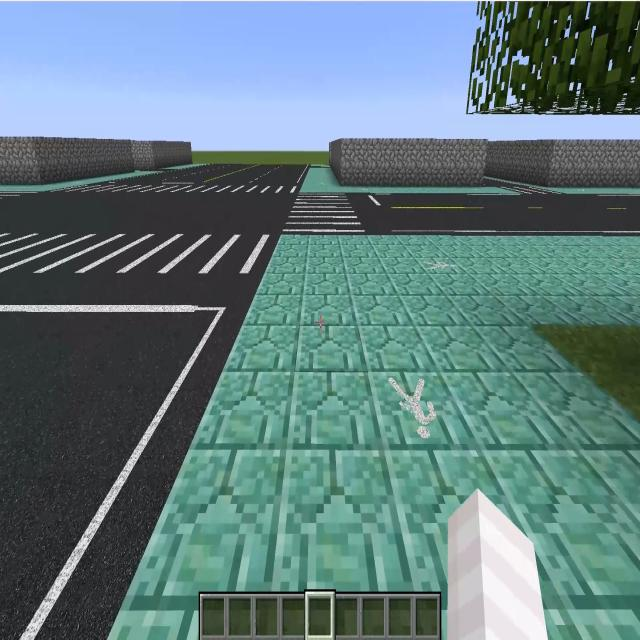crosswalk: (0, 224, 279, 284), (74, 180, 302, 196), (284, 192, 367, 232)
road: (1, 275, 252, 634), (352, 193, 639, 230), (1, 191, 288, 220), (147, 164, 308, 178)
sidewalk: (107, 234, 640, 639), (300, 167, 531, 194), (0, 171, 162, 195), (502, 181, 640, 194), (163, 163, 206, 170)
